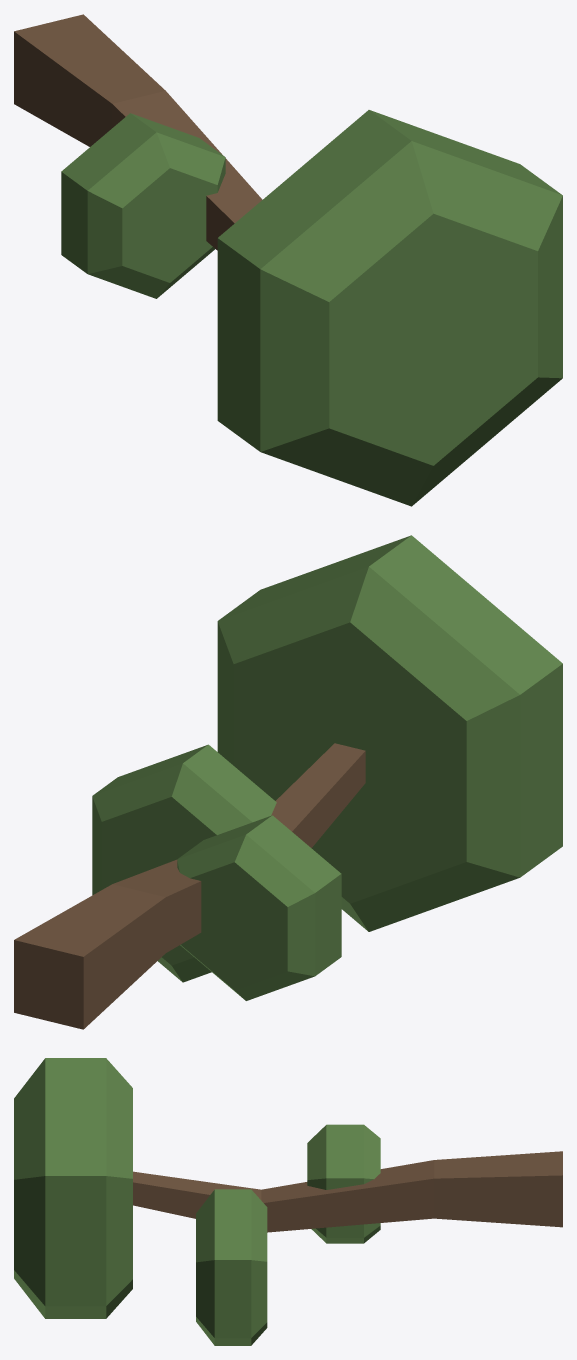
File: tree-model-plateau-26-ft.obj
3 renders of one model, top to bottom at view 1: azimuth 30°, elevation 25°; view 2: azimuth 150°, elevation 25°; view 3: azimuth 270°, elevation 25°, orthographic. The views are drawn at different scales.
Visible parts, largest first — view 1: tree-model-plateau-26-ft; view 2: tree-model-plateau-26-ft; view 3: tree-model-plateau-26-ft.
Part boxes in pixels (x1,y1,x2,y2): tree-model-plateau-26-ft: (14, 14, 562, 506); tree-model-plateau-26-ft: (14, 535, 562, 1029); tree-model-plateau-26-ft: (14, 1058, 562, 1345).
Bounding box in the file's own units: 153 × 164 × 312.
